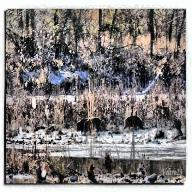boar: (122, 114, 151, 141), (73, 118, 101, 138), (83, 115, 103, 137)
